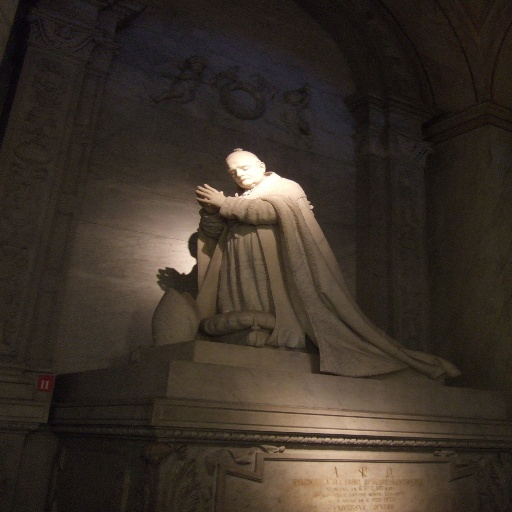hand: (197, 183, 224, 214)
